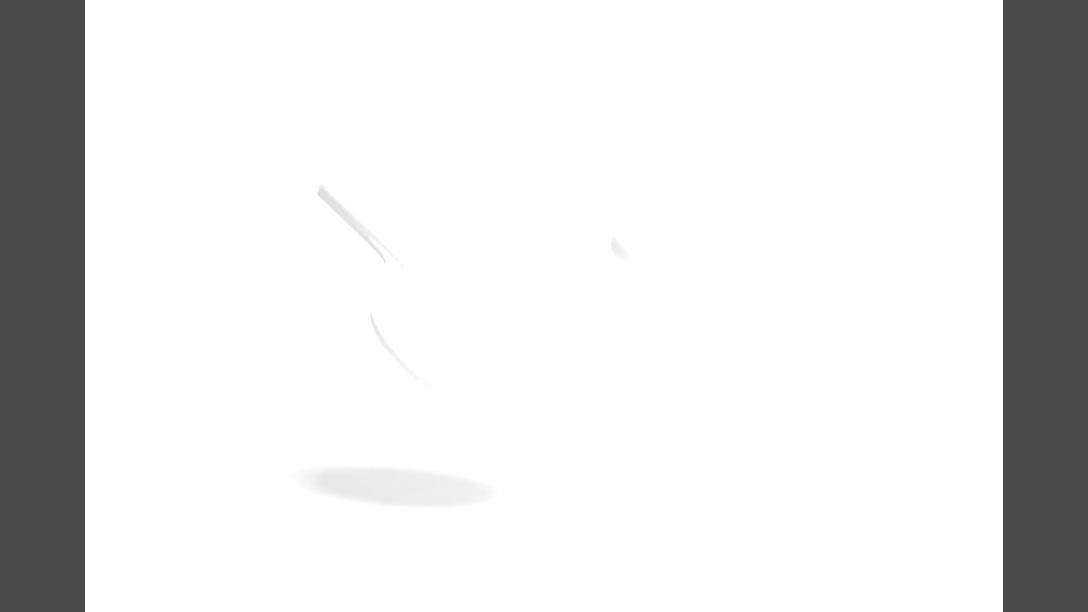Table-Tennis-Ball: (608, 216, 668, 274)
